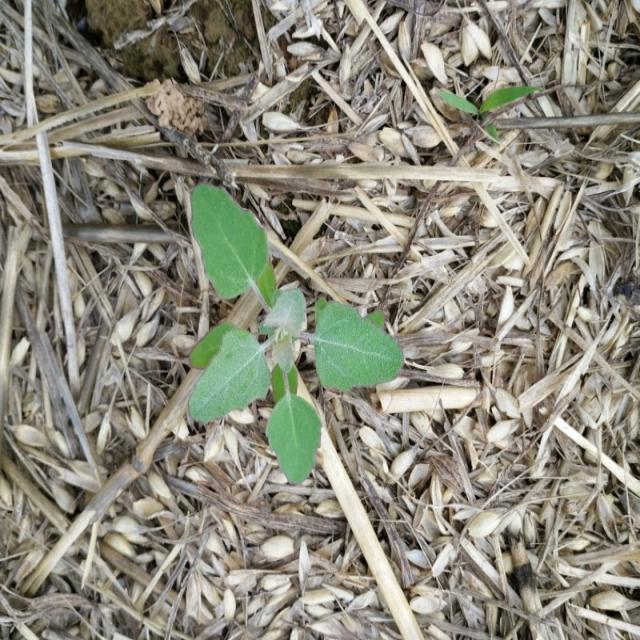goosefoots: (160, 176, 418, 483)
